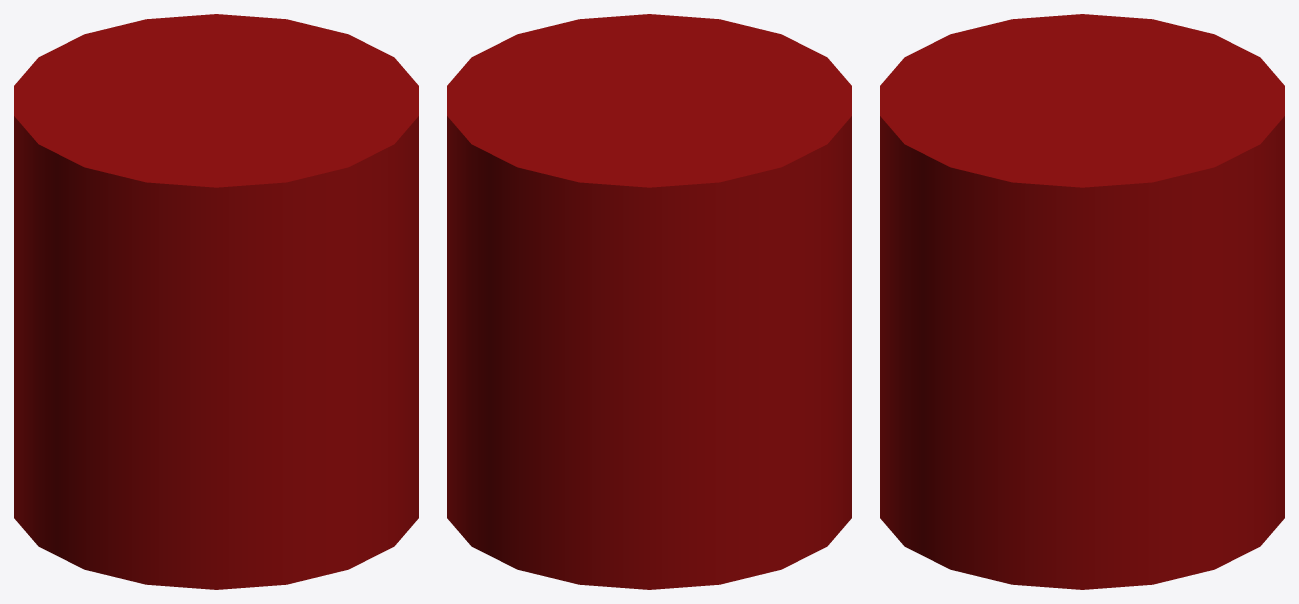
File: Red.FBX
The picture shows the model from 3 angles, left to right: view 1: azimuth 30°, elevation 25°; view 2: azimuth 150°, elevation 25°; view 3: azimuth 270°, elevation 25°; orthographic projection.
Parts seen in each view (by area): view 1: Cylinder001; view 2: Cylinder001; view 3: Cylinder001.
Boxes of the visible parts, x1,y1,x2,y2 form: Cylinder001: (14,14,418,589); Cylinder001: (447,14,851,589); Cylinder001: (880,14,1284,589).
Size of the model in its own units: 20.84 by 22.5 by 20.52.
